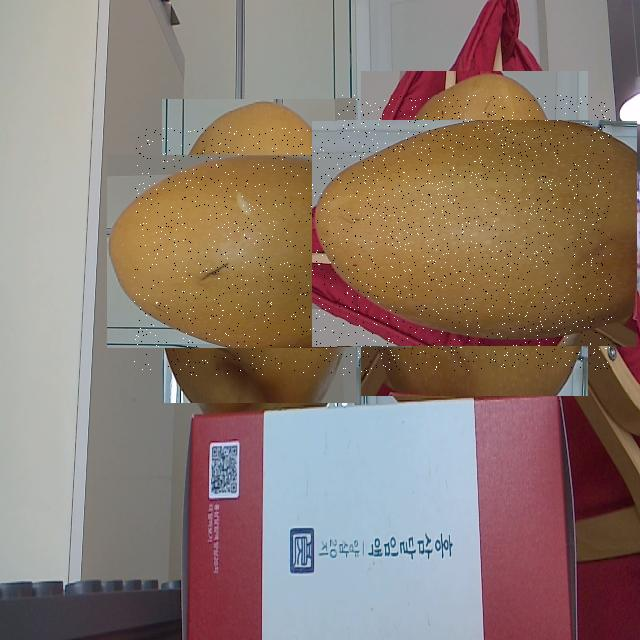pear: (337, 96, 612, 372), (134, 127, 384, 376)
